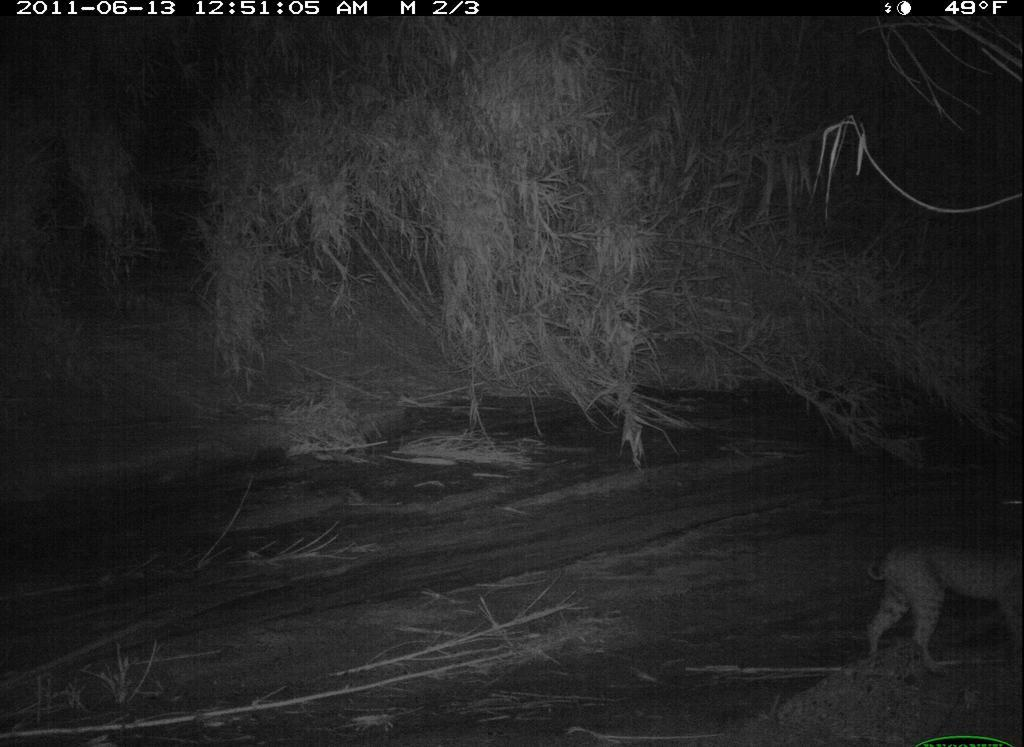bobcat: (850, 530, 1017, 671)
